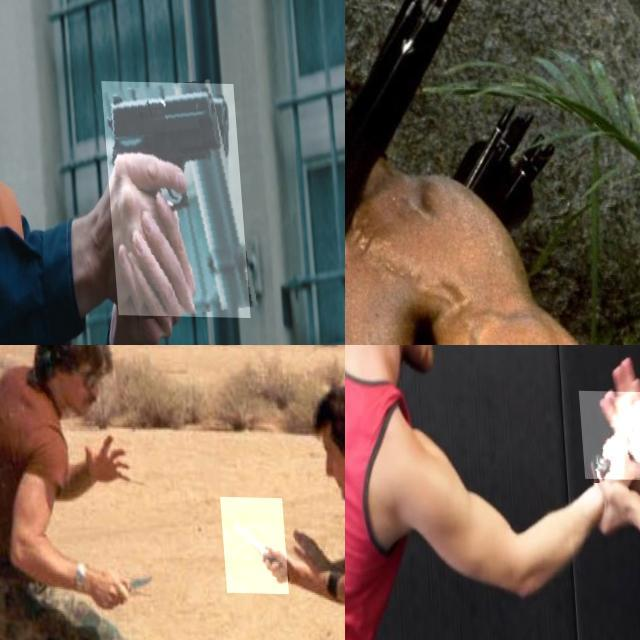-: (345, 3, 423, 345), (217, 496, 284, 593), (575, 388, 640, 479), (83, 564, 155, 610)
gun-knife-thesis - v11 Yolov5 augmented: (98, 79, 244, 316)
